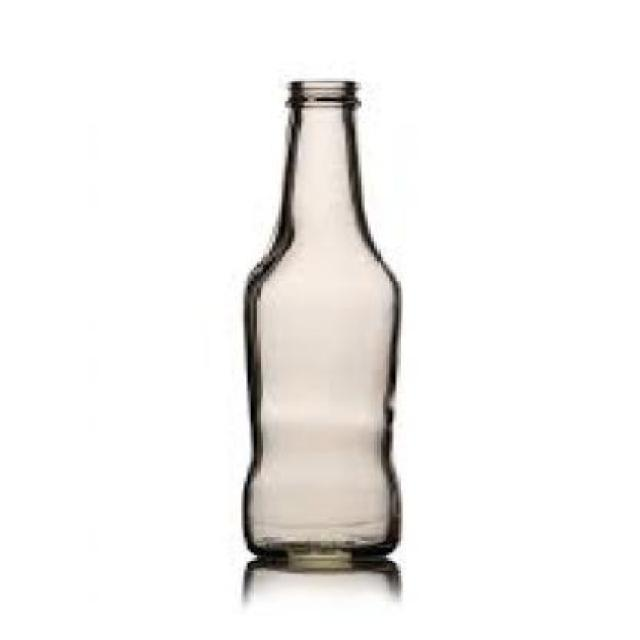GLASS: (241, 77, 399, 555)
